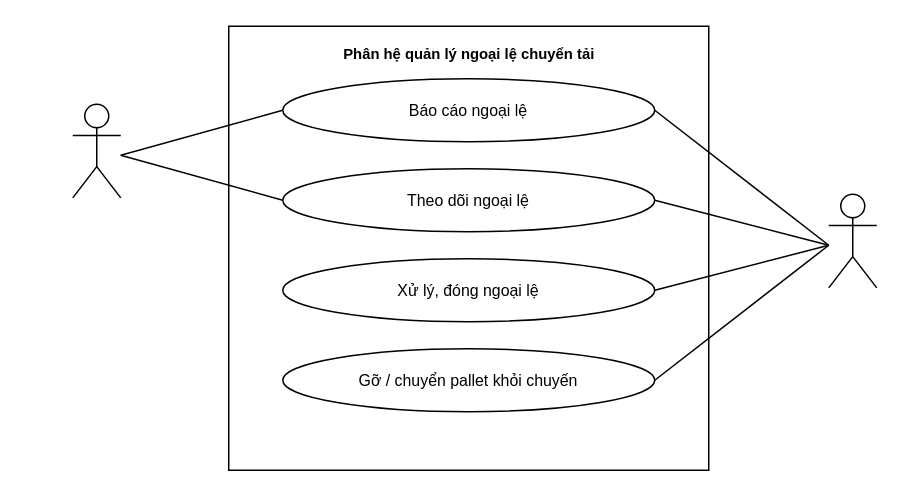
The diagram is 921 pixels wide and 497 high, and some of its shapes have lost their labels. The box of each missing label's shape, as (x1, y1, x2, y2) in pixels:
Nhân viên vận hành: (71, 103, 121, 198)
Quản lý kho: (827, 193, 877, 288)
